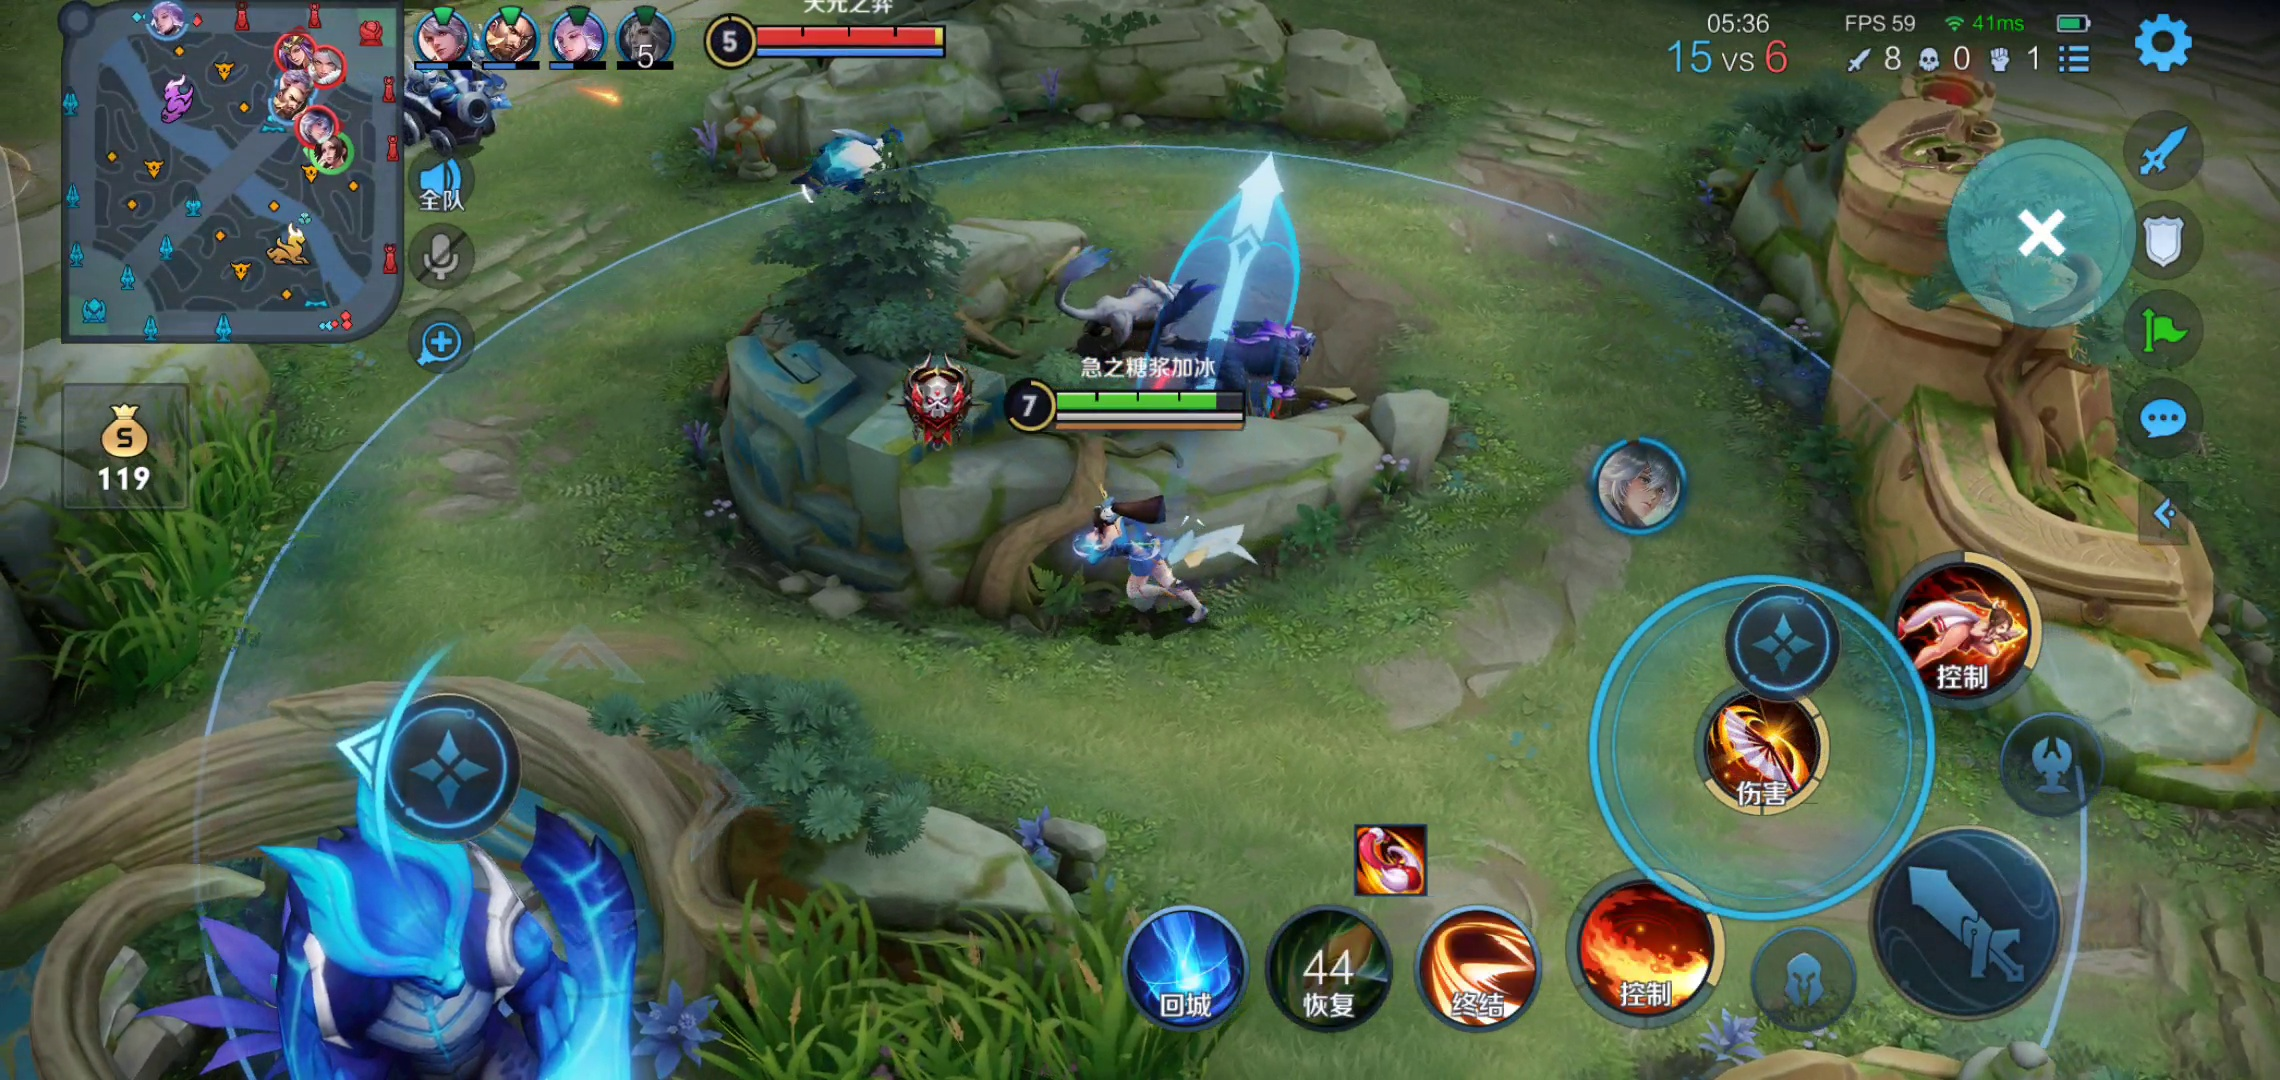buff: (172, 781, 682, 1080)
grass: (702, 884, 1229, 1080), (60, 414, 268, 672)
hero: (1066, 501, 1267, 664), (782, 129, 960, 263)
soldier: (409, 73, 537, 170)
wild_monster: (1031, 269, 1368, 451)
